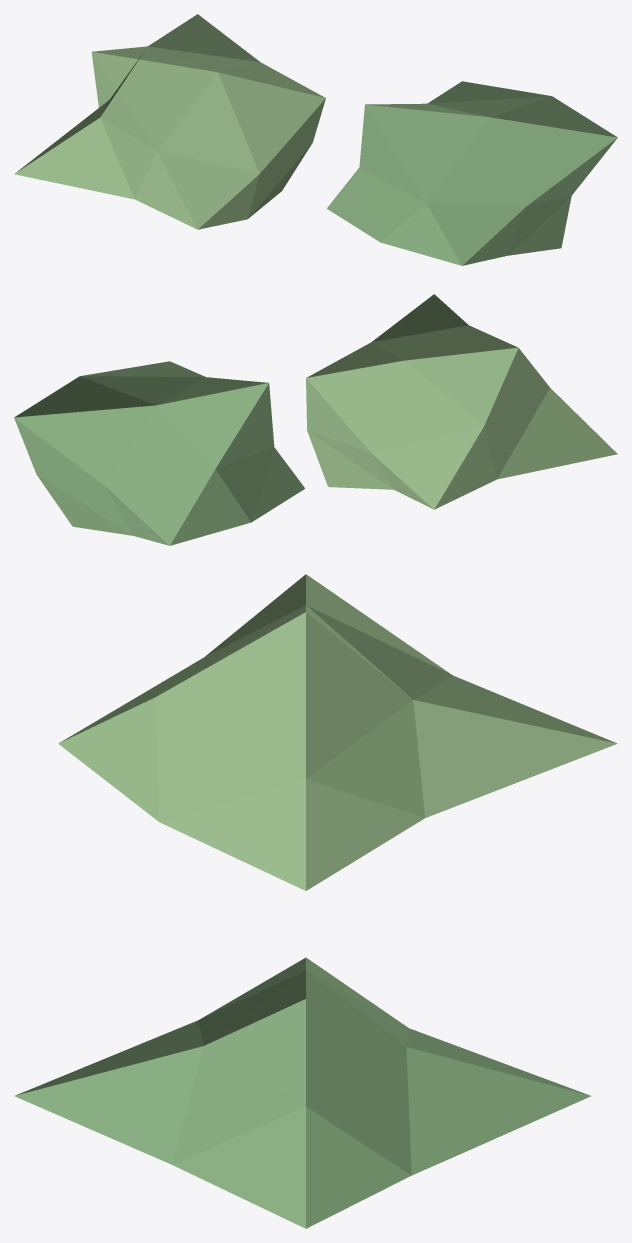
Rendered from shrub_v00.glb.
3 renders of one model, top to bottom at view 1: azimuth 30°, elevation 25°; view 2: azimuth 150°, elevation 25°; view 3: azimuth 270°, elevation 25°, orthographic. The views are drawn at different scales.
Parts seen in each view (by area): view 1: lod0; view 2: lod0; view 3: lod0.
Part boxes in pixels (box(x1,y1,x2,y2)): lod0: box(14, 14, 617, 265); lod0: box(14, 294, 617, 545); lod0: box(14, 574, 617, 1228).
Size of what is drawn, in the model's own units: 1.14 by 0.5718 by 0.6729.
